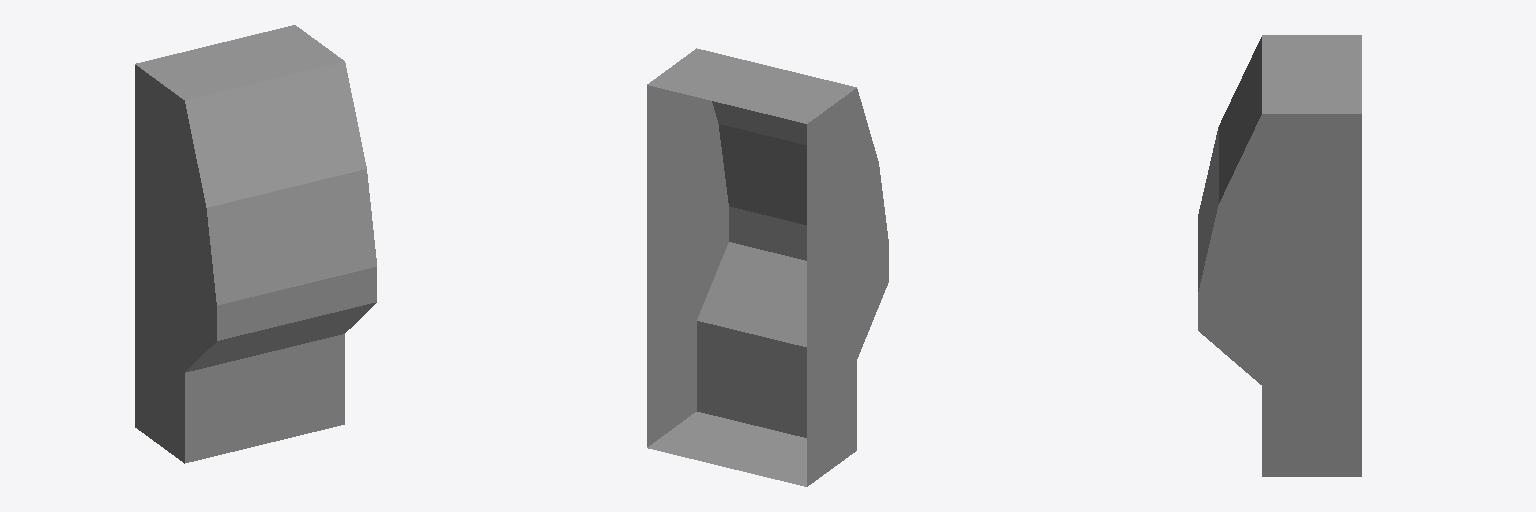
File: blue.obj
3 renders of one model, left to right at view 1: azimuth 30°, elevation 25°; view 2: azimuth 150°, elevation 25°; view 3: azimuth 270°, elevation 25°, orthographic.
Parts seen in each view (by area): view 1: Cube_Cube.001; view 2: Cube_Cube.001; view 3: Cube_Cube.001.
Boxes of the visible parts, x1=… form: Cube_Cube.001: x1=135, y1=25, x2=376, y2=463; Cube_Cube.001: x1=647, y1=48, x2=888, y2=486; Cube_Cube.001: x1=1198, y1=35, x2=1361, y2=476.
Bounding box in the file's own units: 2.97 × 6.41 × 2.63.